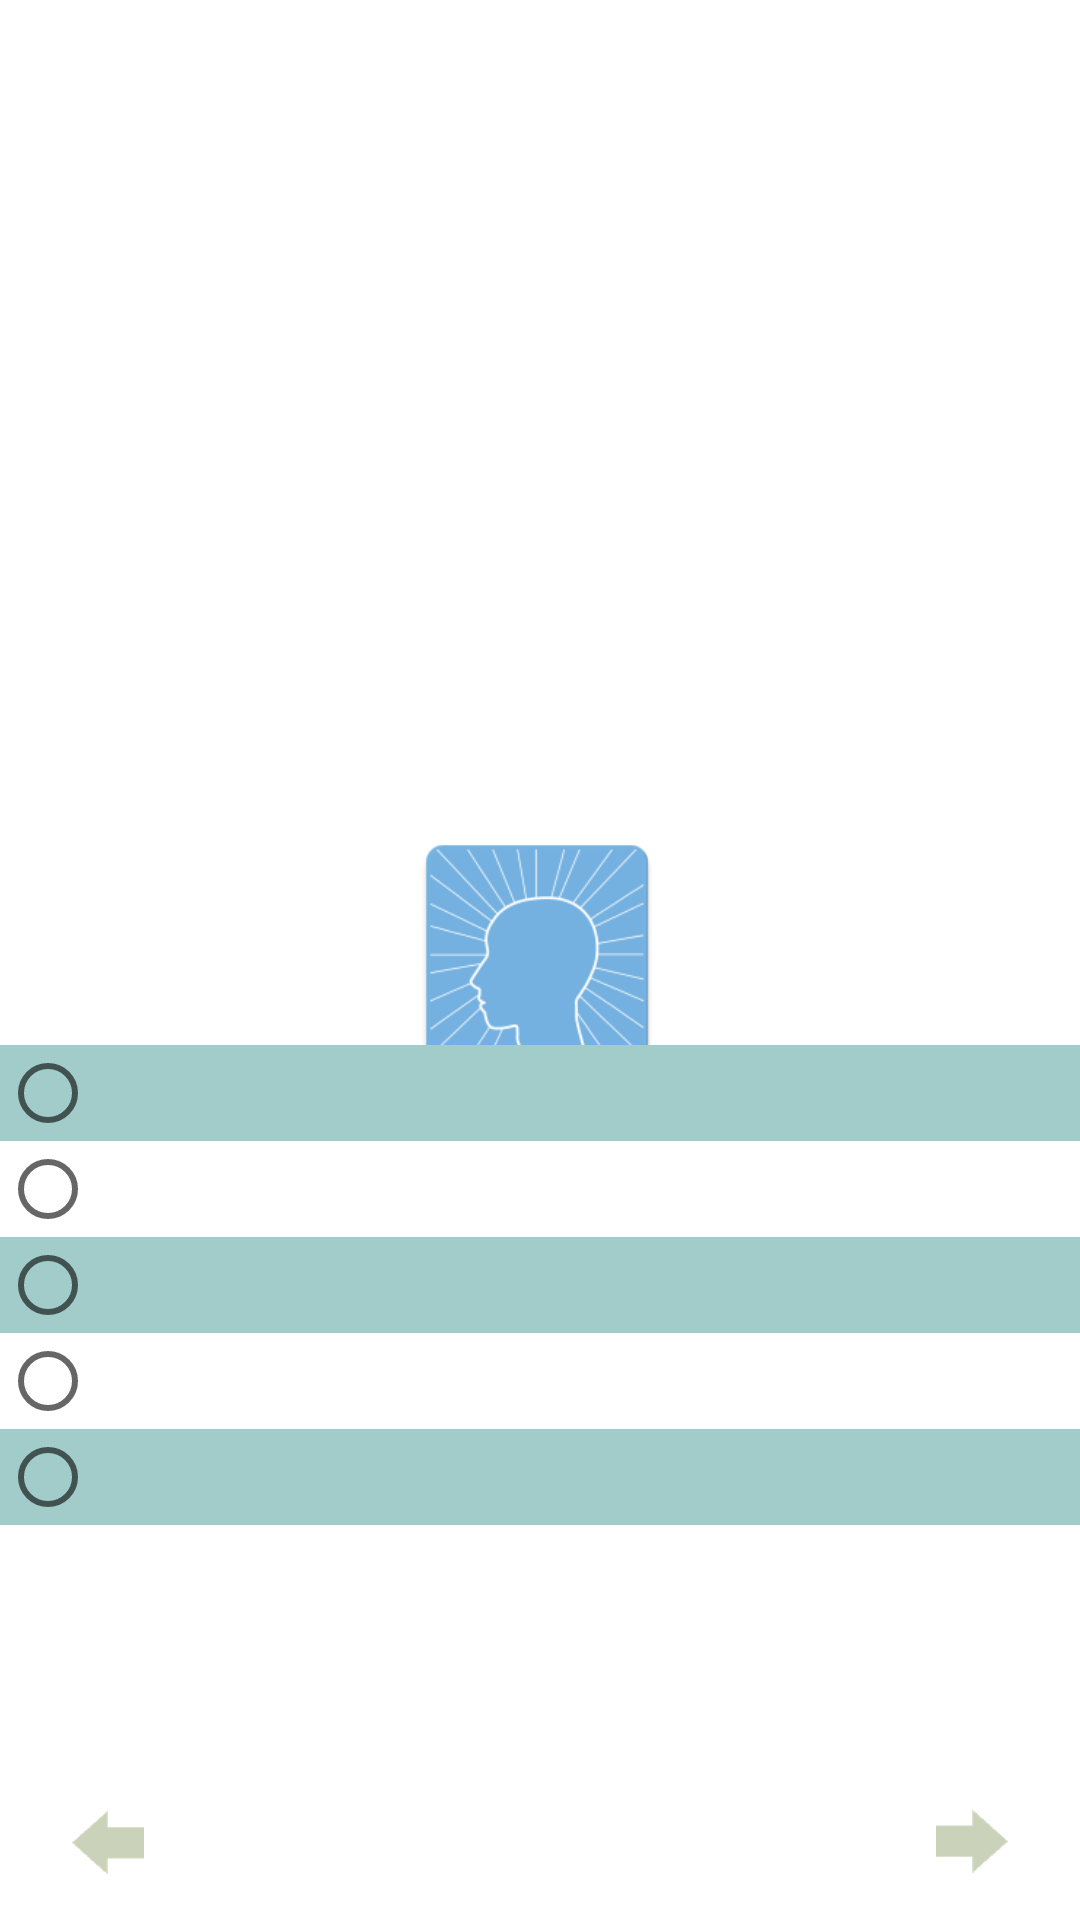

Named icons in this screenshot (1080 × 1920) and their centers, (x,y):
Next question: (972,1841)
